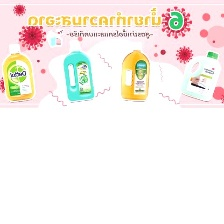cleaning_solution: (178, 48, 222, 103), (1, 40, 40, 102), (61, 38, 97, 103), (119, 39, 153, 103)
